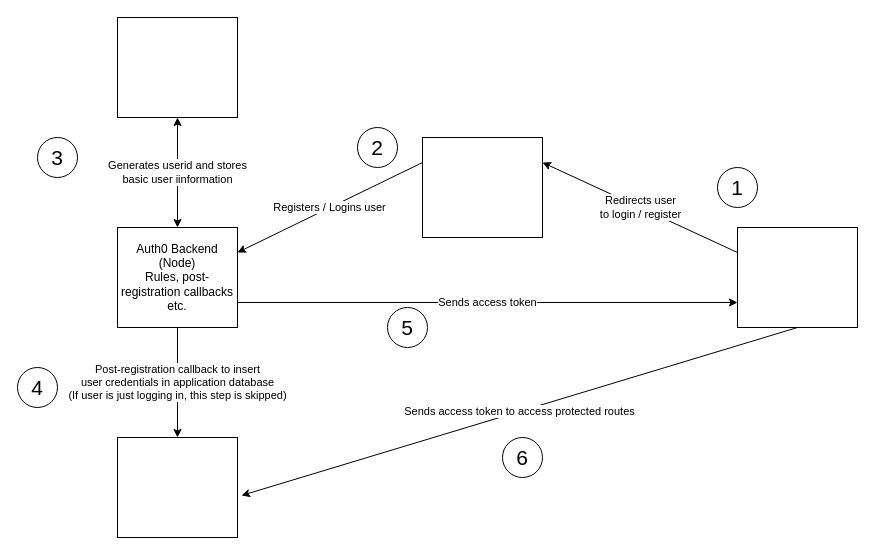
The diagram is 875 pixels wide and 555 high, and some of its shapes have lost their labels. The shapes that lost their labels are listed below. From the top down, each one's box as (x1, y1, x2, y2) in pixels, then its label:
(116, 16, 238, 118): Auth0 User Database (Stores user ID, hashed password, email)
(422, 136, 542, 238): Auth0 Front-end (Login / Register)
(736, 226, 858, 328): Vue front-end
(116, 436, 238, 538): Net Core backend (Uses CLAIMS to validate user)
